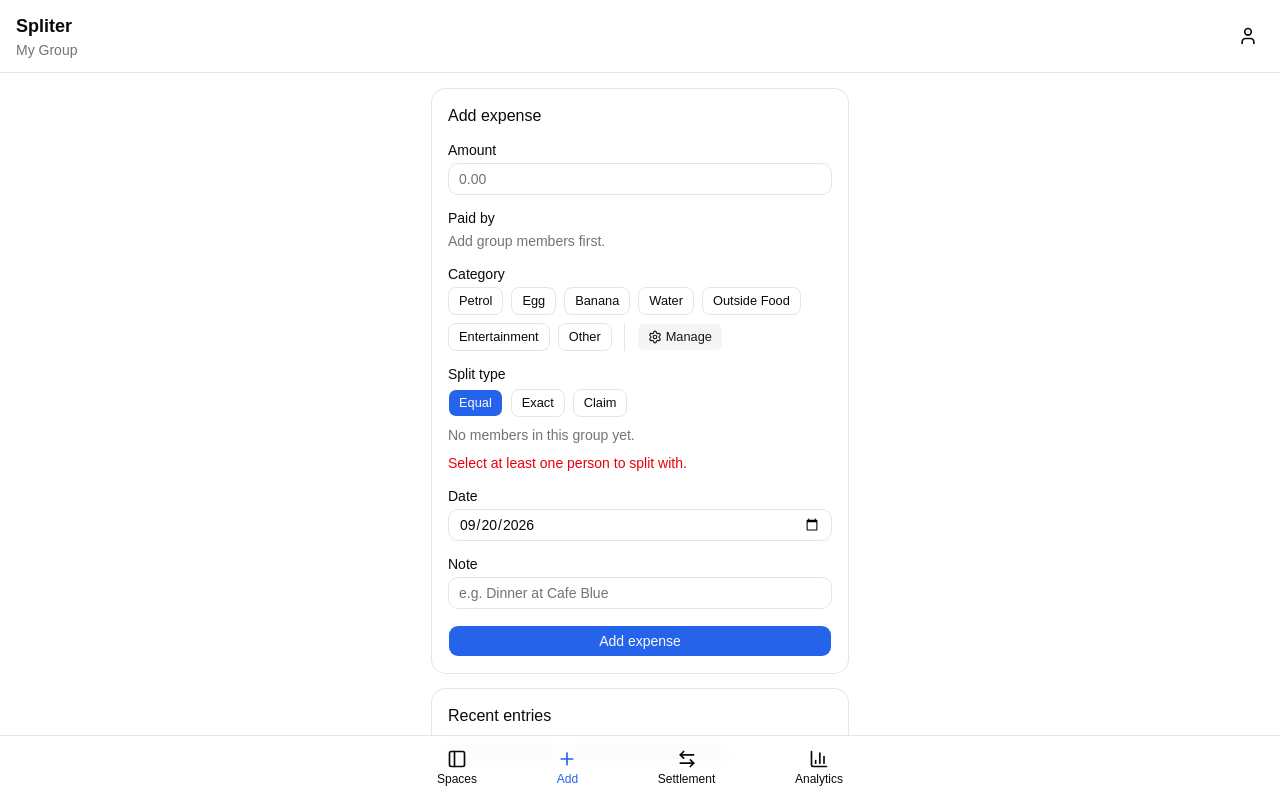
Test case: AppShell header dropdown — Categories › lets the header menu open the categories modal for the active space
Check: the text "My Group" is shown, box [16,40,78,60]
Click the button named "Account menu".
click(1248, 36)  # box [1232,20,1264,52]
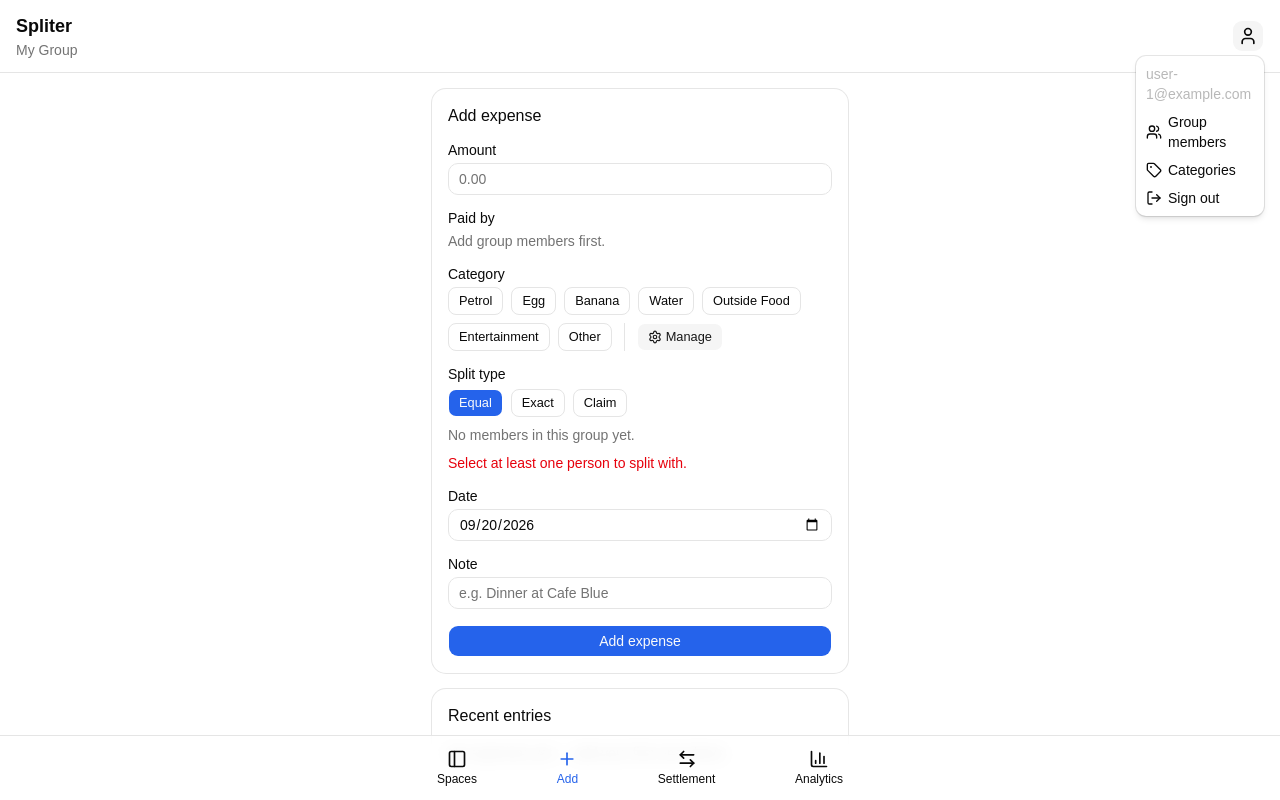
Click the menu item "Categories".
click(1191, 170)  # box [1146,162,1236,178]
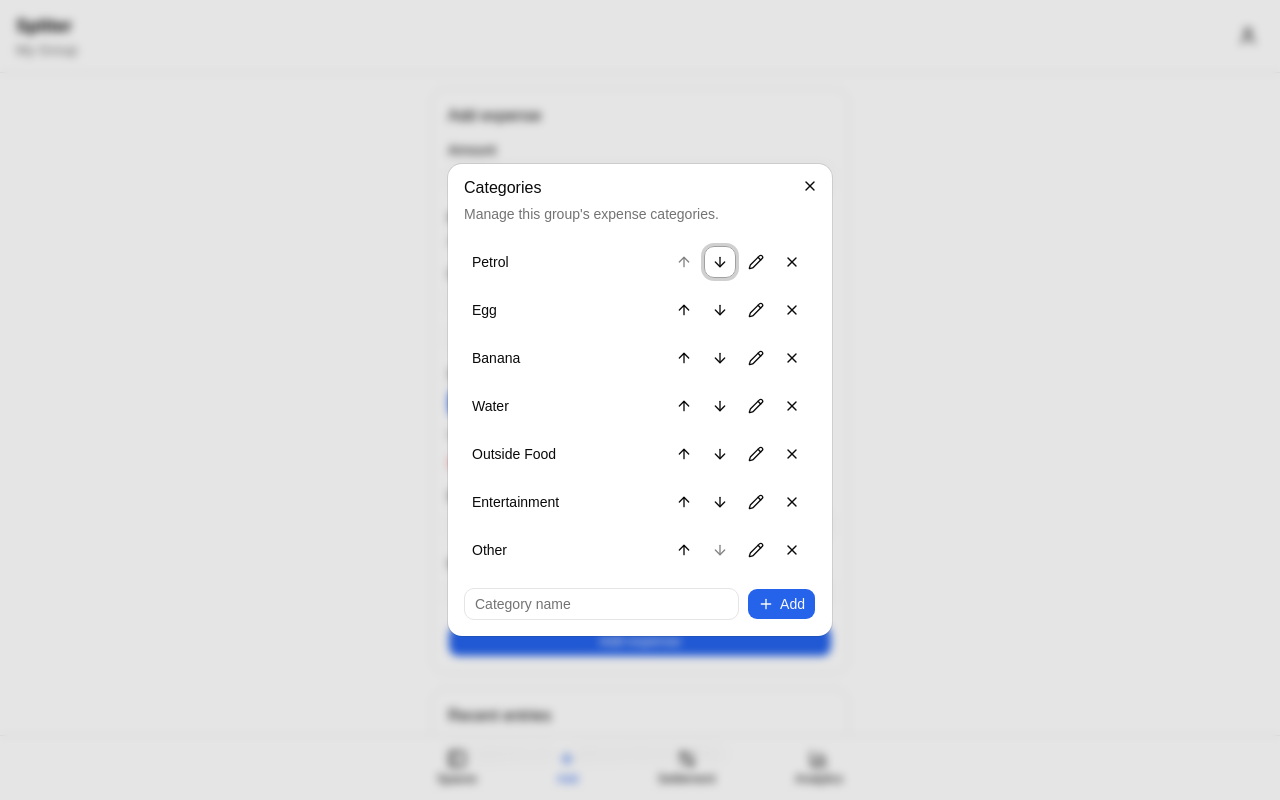
Check: the text "Petrol" is shown, box [472,252,509,272]
